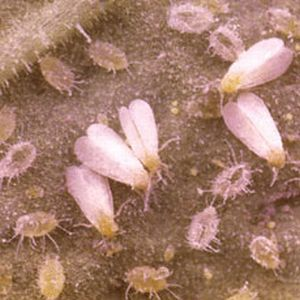whitefly: (73, 122, 158, 209), (221, 93, 299, 187), (211, 38, 293, 110), (67, 156, 119, 239), (118, 97, 169, 177)
